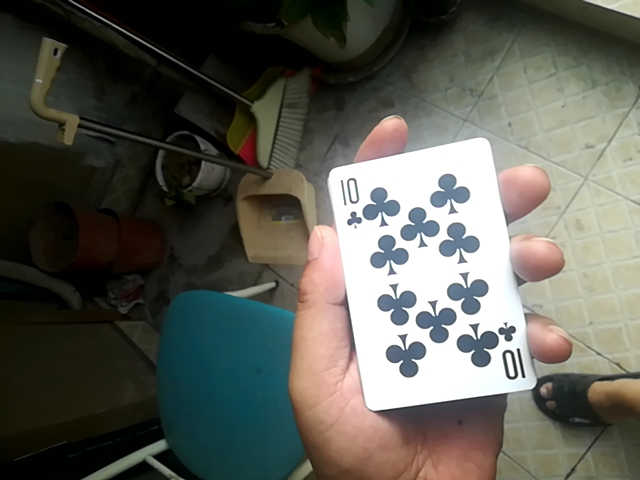mh 10: (328, 143, 540, 419)
